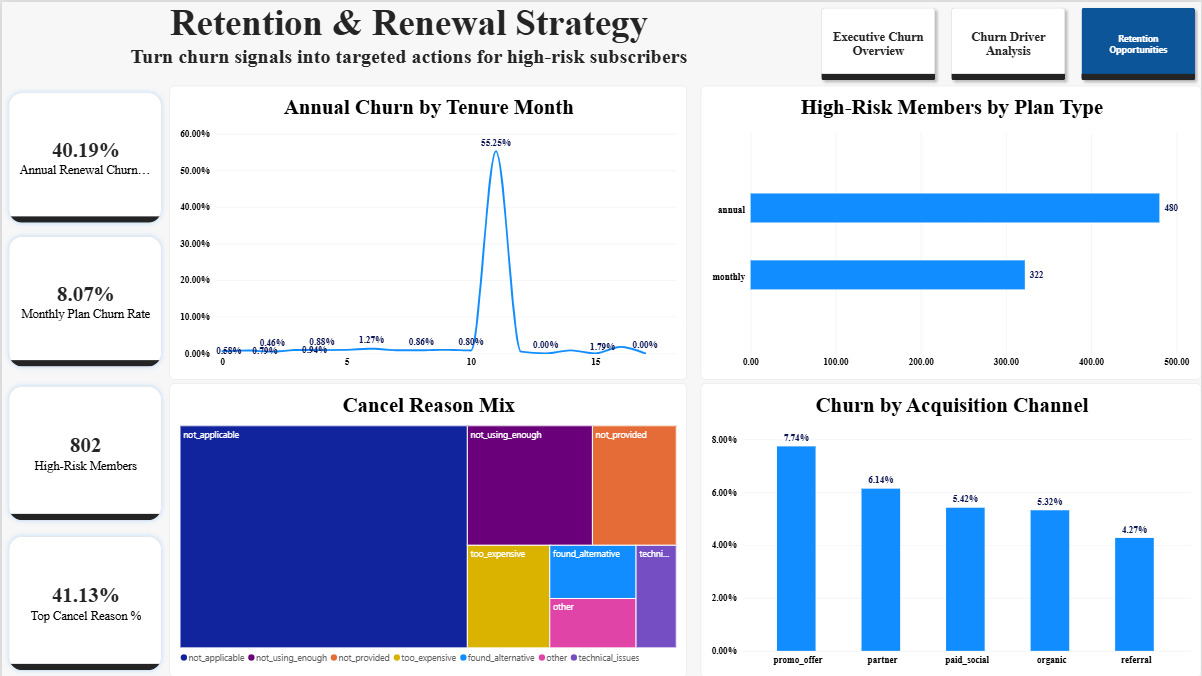

What the dashboard file says about the page in this screenshot:
{"tool":"powerbi","page":{"name":"Retention Opportunities","canvas":[1920,1080],"ordinal":2},"visuals":[{"type":"cardVisual","title":"Active Subscribers","fields":{"Data":["Measures (2).Annual Renewal Churn Rate"]},"box":[0,134,266,230],"z":0},{"type":"cardVisual","title":"Active Subscribers","fields":{"Data":["Measures (2).Monthly Plan Churn Rate"]},"box":[0,364,266,230],"z":1000},{"type":"cardVisual","title":"Active Subscribers","fields":{"Data":["Measures (2).High-Risk Members"]},"box":[0,604,266,236],"z":2000},{"type":"cardVisual","title":"Active Subscribers","fields":{"Data":["Measures (2).Top Cancel Reason %"]},"box":[0,844,266,236],"z":3000},{"type":"lineChart","title":"Annual Churn by Tenure Month","fields":{"Y":["Measures (2).Customer-Month Churn Rate"],"Category":["Fact_MonthlyUsage.Tenure_Month"]},"box":[268,134,828,470],"z":4000},{"type":"clusteredBarChart","title":"High-Risk Members by Plan Type","fields":{"Category":["Dim_Customer.plan_type"],"Y":["Measures (2).High-Risk Members"]},"box":[1118,134,802,470],"z":5000},{"type":"treemap","title":"Cancel Reason Mix","fields":{"Group":["Dim_Customer.cancel_reason"],"Values":["Count(Dim_Customer.customer_id)"]},"box":[268,610,828,470],"z":6000},{"type":"clusteredColumnChart","title":"Churn by Acquisition Channel","fields":{"Category":["Dim_Customer.acquisition_channel"],"Y":["Measures (2).Customer-Month Churn Rate"]},"box":[1118,610,802,470],"z":7000},{"type":"textbox","box":[0,0,1302,134],"z":8000},{"type":"pageNavigator","box":[1302,0,618,134],"z":8001}]}

Visuals, with their boxes in screenshot pixels (x1, y1, x2, y2), scaled from the page's 1920x1080 canvas onto the 1202x676 screenshot:
"Active Subscribers" cardVisual: 0 84 167 228
"Active Subscribers" cardVisual: 0 228 167 372
"Active Subscribers" cardVisual: 0 378 167 526
"Active Subscribers" cardVisual: 0 528 167 675
"Annual Churn by Tenure Month" lineChart: 168 84 686 378
"High-Risk Members by Plan Type" clusteredBarChart: 700 84 1201 378
"Cancel Reason Mix" treemap: 168 382 686 675
"Churn by Acquisition Channel" clusteredColumnChart: 700 382 1201 675
textbox: 0 0 815 84
pageNavigator: 815 0 1201 84
